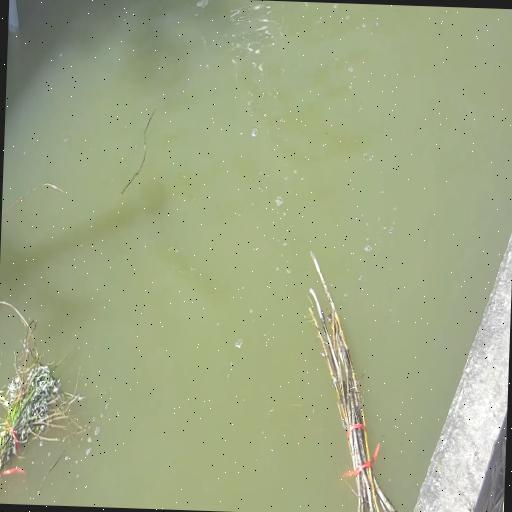twig: (293, 241, 404, 512), (0, 293, 91, 506)
